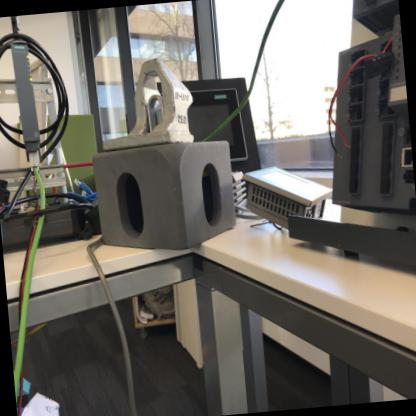CornerCasting: (92, 138, 240, 258)
Twistlock: (90, 52, 198, 154)
